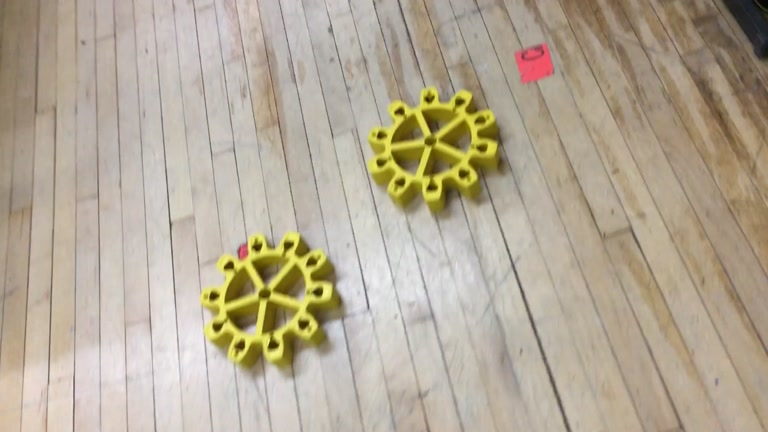gear: (199, 231, 340, 369), (365, 85, 501, 215)
